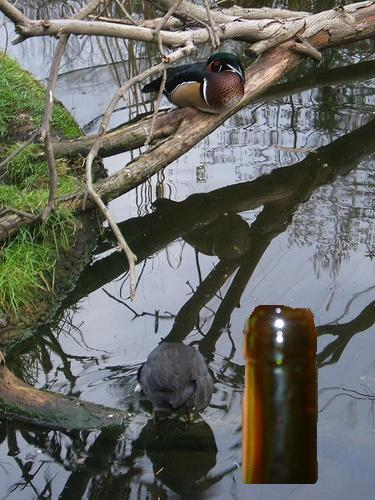tampered: (242, 306, 318, 484)
